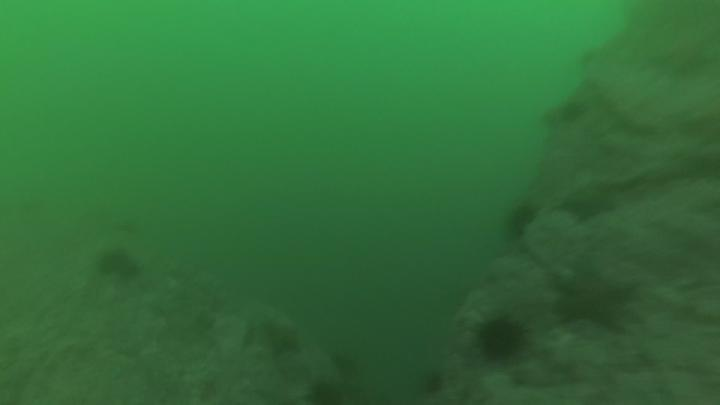echinus: (473, 314, 529, 365), (94, 243, 139, 284), (504, 205, 539, 241)
starfish: (553, 261, 642, 339)
